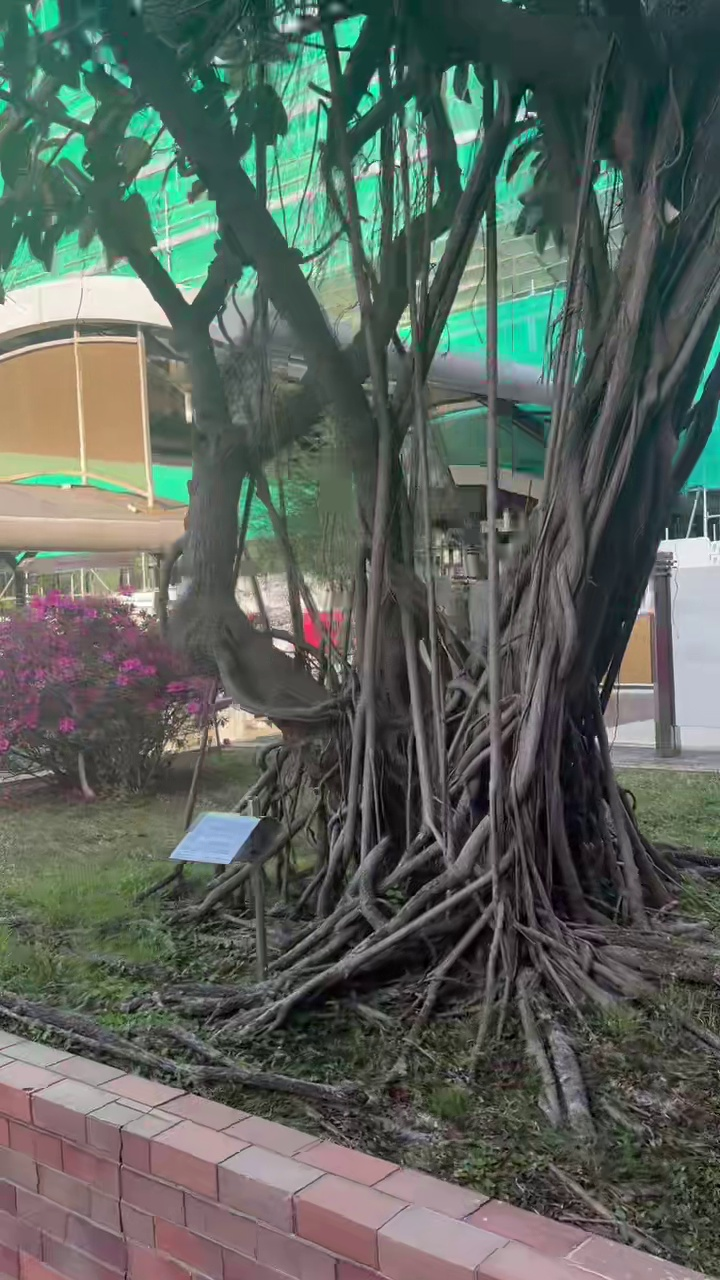Ficus elastica: (105, 0, 719, 1113)
